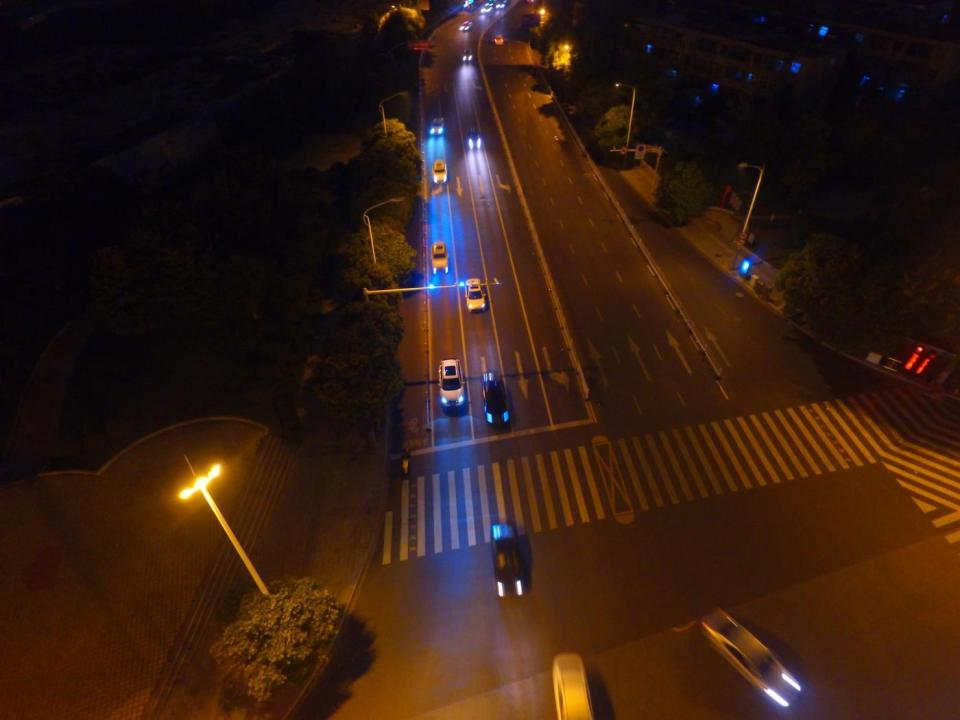car: (700, 609, 798, 707), (489, 524, 528, 594), (555, 650, 594, 720), (479, 371, 508, 425), (438, 357, 463, 407), (465, 278, 485, 312), (430, 242, 449, 274), (430, 158, 449, 184), (430, 116, 446, 134), (468, 128, 481, 149), (463, 48, 474, 63), (460, 20, 473, 31), (495, 34, 504, 46)
